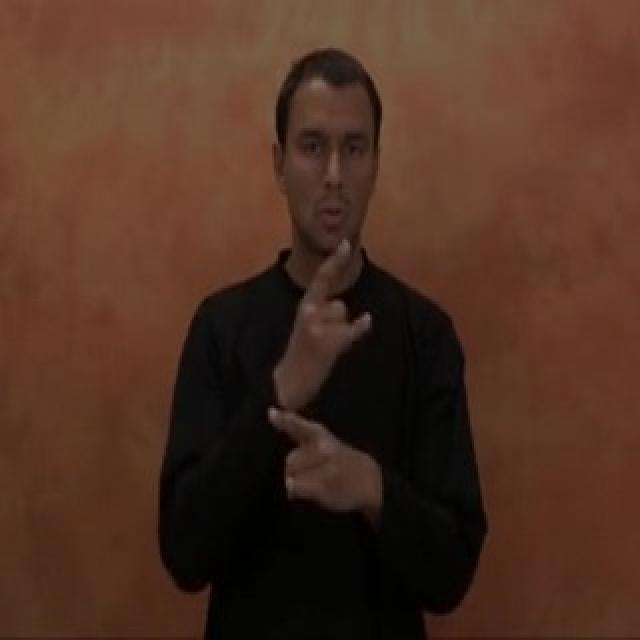alcohol: (260, 228, 396, 536)
